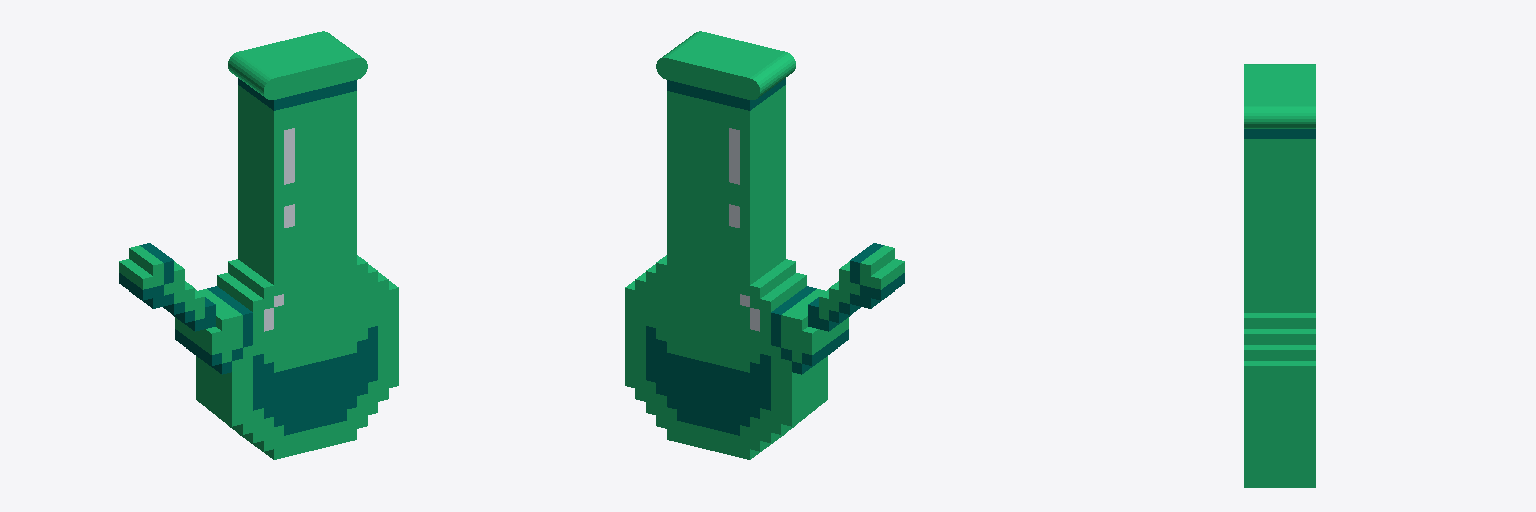
The model's file is Bong.obj.
3 views of the same model, side by side, from view 1: azimuth 30°, elevation 25°; view 2: azimuth 150°, elevation 25°; view 3: azimuth 270°, elevation 25° (orthographic).
Bounding box in the file's own units: 24 × 35 × 6.